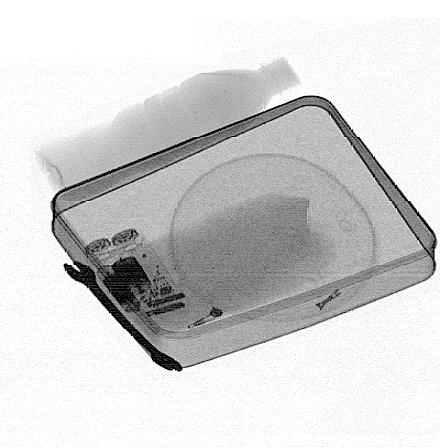Wrench: (61, 257, 185, 373)
